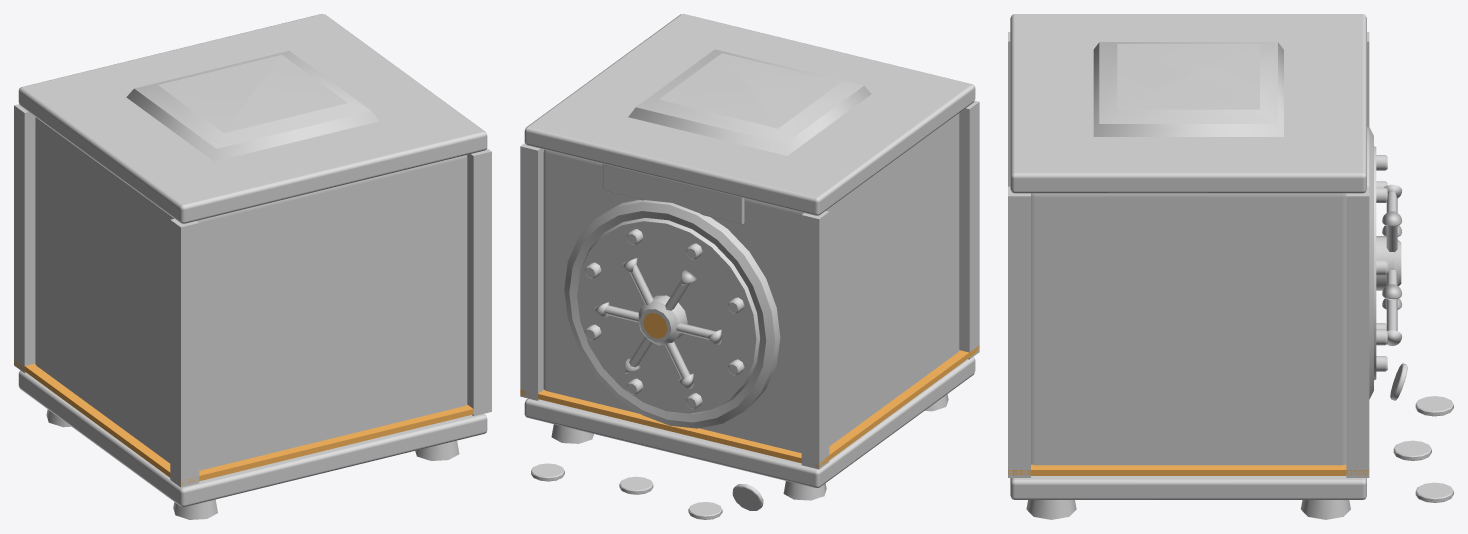
File: VaultScrap.glb
3 views of the same model, side by side, from view 1: azimuth 30°, elevation 25°; view 2: azimuth 150°, elevation 25°; view 3: azimuth 270°, elevation 25° (orthographic). The views are drawn at different scales.
Parts seen in each view (by area): view 1: Body, Glow; view 2: Body, Glow; view 3: Body, Glow.
Boxes of the visible parts, x1,y1,x2,y2 form: Body: (14, 14, 491, 519); Glow: (14, 360, 473, 485); Body: (520, 14, 979, 519); Glow: (520, 312, 979, 467); Body: (1008, 14, 1453, 519); Glow: (1008, 464, 1369, 475).
Bounding box in the file's own units: 8.5 × 9.04 × 9.75.
